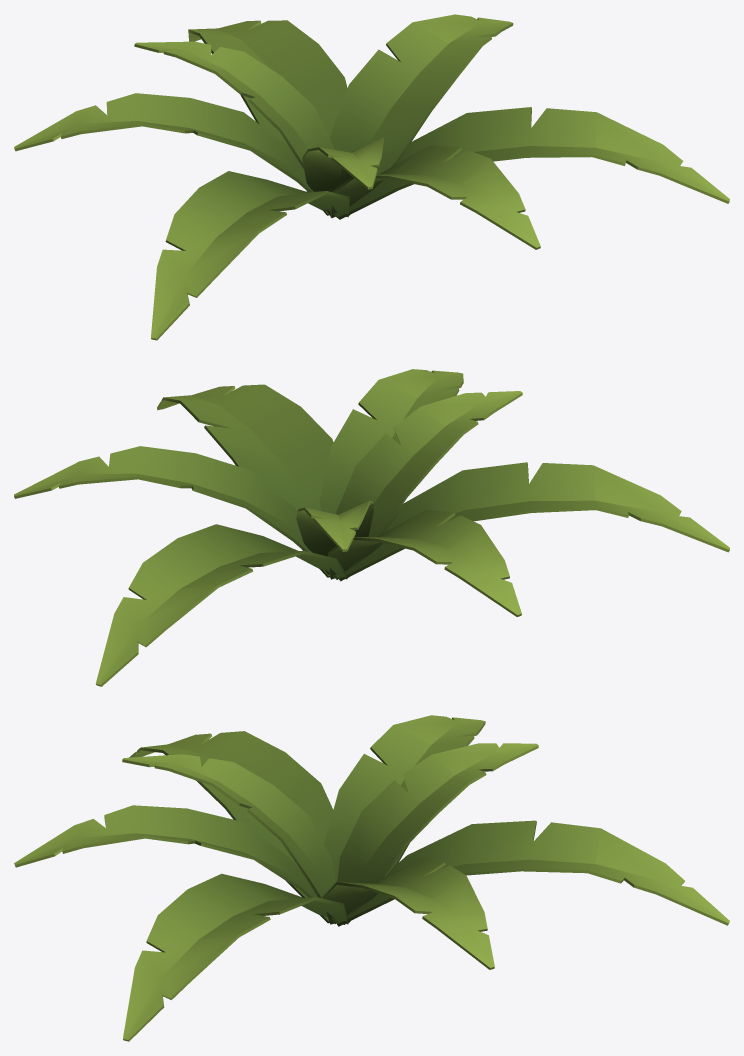
The model's file is Plant_03.fbx.
The picture shows the model from 3 angles, top to bottom: view 1: azimuth 30°, elevation 25°; view 2: azimuth 150°, elevation 25°; view 3: azimuth 270°, elevation 25°; orthographic projection.
Visible parts, largest first — view 1: Plant_03_LOD0; view 2: Plant_03_LOD0; view 3: Plant_03_LOD0.
Part boxes in pixels (x1,y1,x2,y2): Plant_03_LOD0: (14, 14, 729, 340); Plant_03_LOD0: (14, 369, 729, 686); Plant_03_LOD0: (14, 715, 729, 1041).
Size of what is drawn, in the model's own units: 1.19 by 0.2606 by 1.27.
